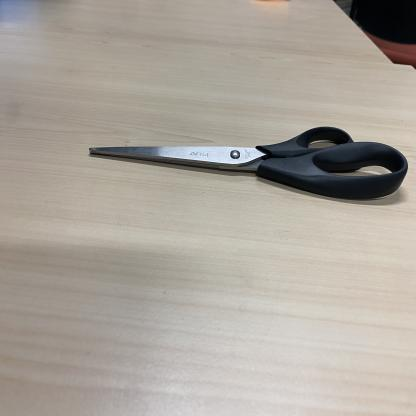scissors: (88, 126, 410, 200), (89, 192, 89, 196)
